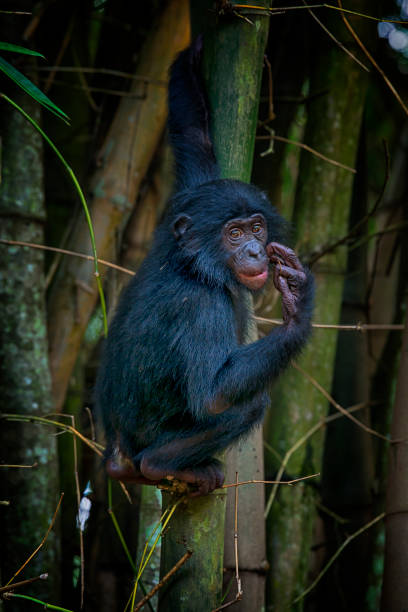chimpanzee: (149, 170, 309, 308)
